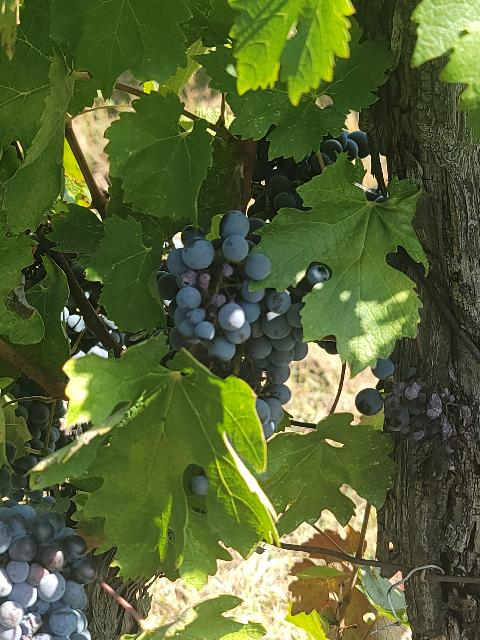grapes: (159, 210, 306, 434), (0, 505, 95, 640)
